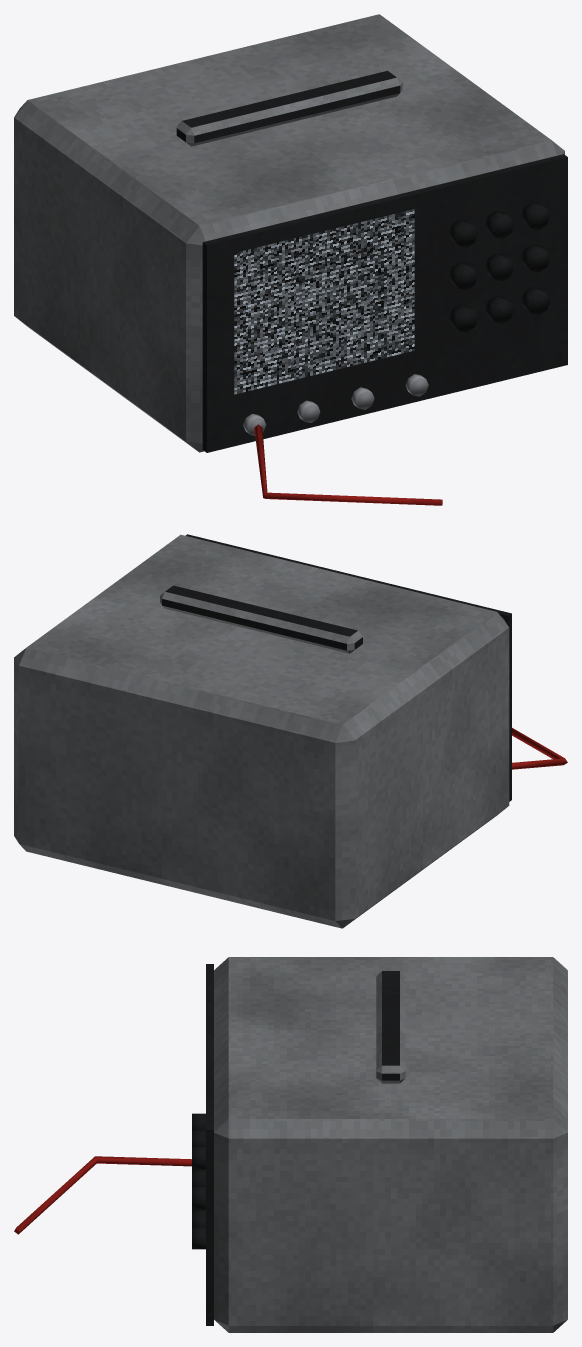
Rendered from Oscilloscope.fbx.
The picture shows the model from 3 angles, top to bottom: view 1: azimuth 30°, elevation 25°; view 2: azimuth 150°, elevation 25°; view 3: azimuth 270°, elevation 25°; orthographic projection. The views are drawn at different scales.
Visible parts, largest first — view 1: Oscilloscope; view 2: Oscilloscope; view 3: Oscilloscope.
Boxes of the visible parts, bbox=[...] form: Oscilloscope: bbox=[14, 14, 567, 505]; Oscilloscope: bbox=[14, 534, 567, 928]; Oscilloscope: bbox=[14, 957, 567, 1332].
Size of the model in its own units: 0.42 by 0.2658 by 0.5634.
